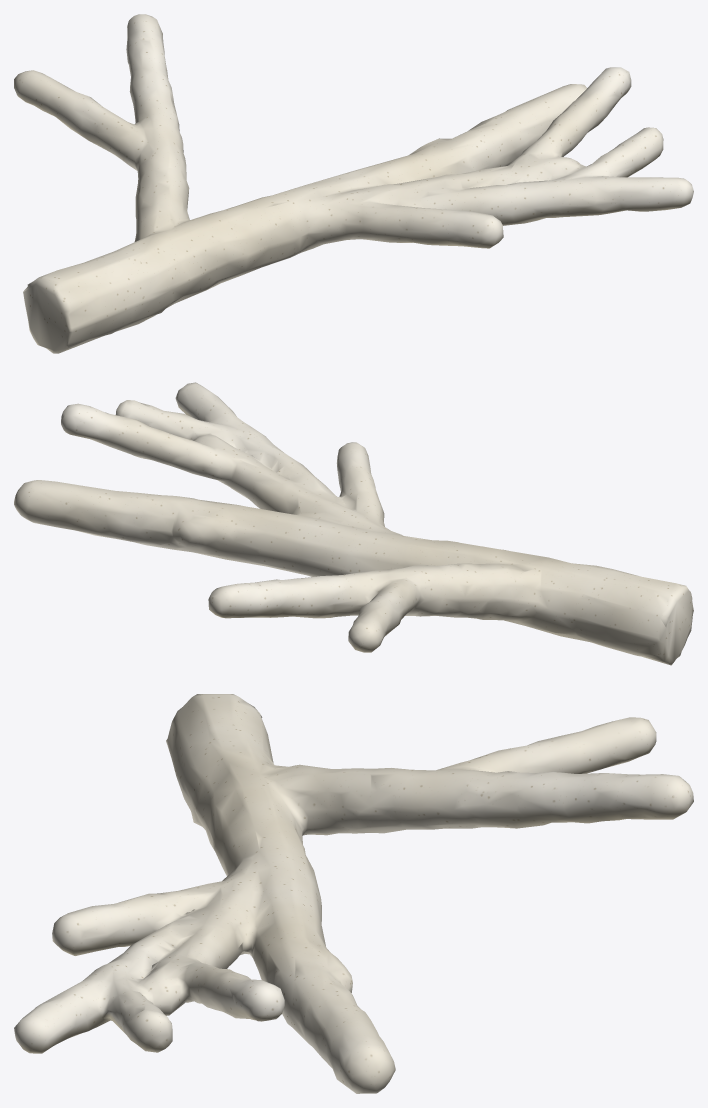
Rendered from CoralPiece_A.gltf.
3 renders of one model, top to bottom at view 1: azimuth 30°, elevation 25°; view 2: azimuth 150°, elevation 25°; view 3: azimuth 270°, elevation 25°, orthographic. The views are drawn at different scales.
Visible parts, largest first — view 1: CoralPiece_A; view 2: CoralPiece_A; view 3: CoralPiece_A.
Boxes of the visible parts, bbox=[...] form: CoralPiece_A: bbox=[14, 14, 693, 353]; CoralPiece_A: bbox=[14, 382, 693, 665]; CoralPiece_A: bbox=[14, 694, 693, 1093].
Bounding box in the file's own units: 0.3062 × 0.0659 × 0.2323.
Materials: 1 (1 with a texture image).
